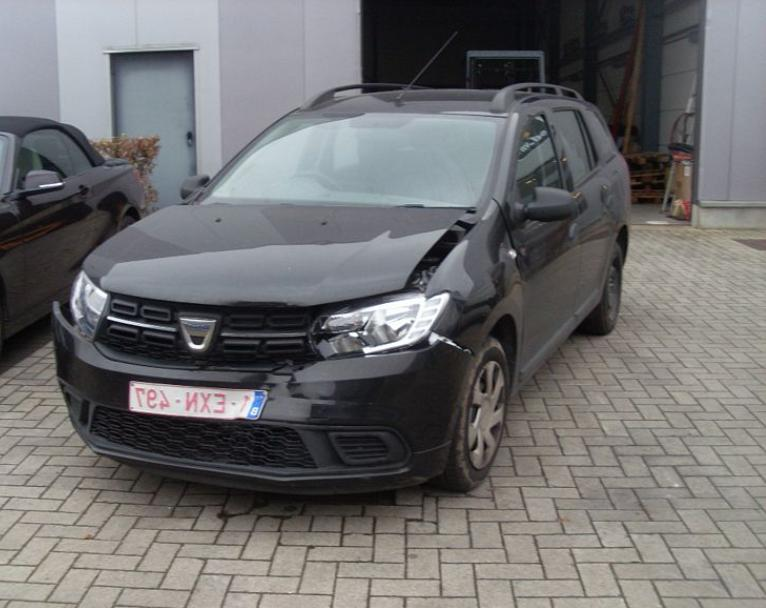Broken part: (51, 300, 475, 496), (105, 209, 483, 314), (308, 290, 451, 360)
Dent: (436, 291, 466, 330)
